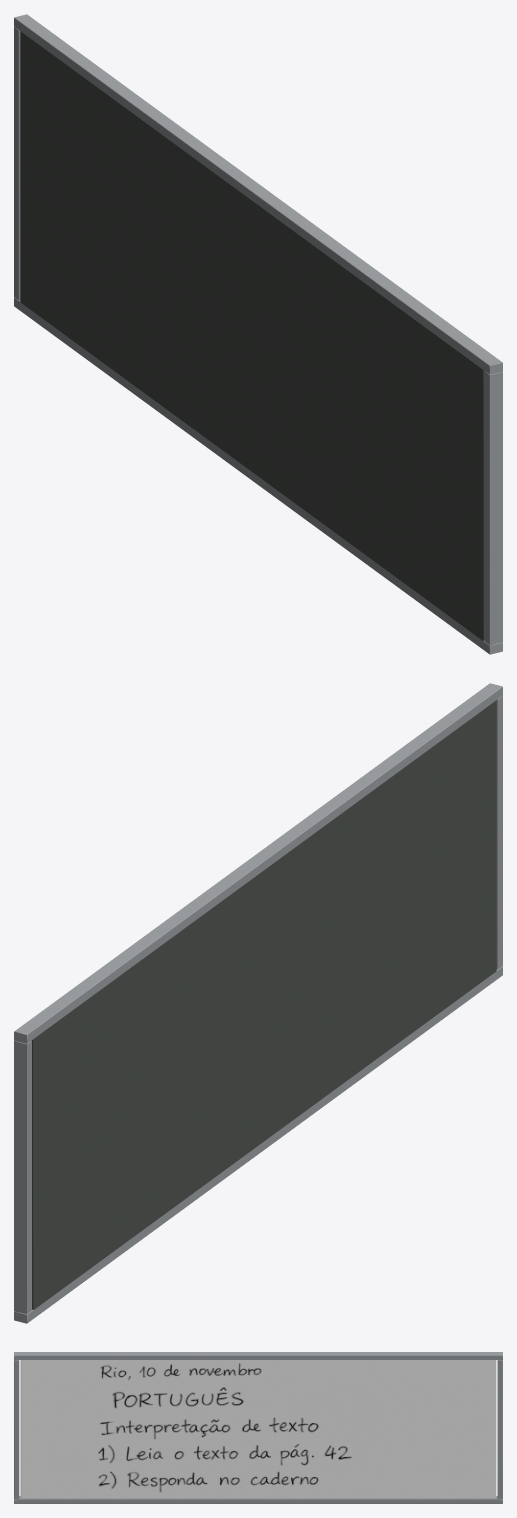
Rendered from quadro_branco_realista.glb.
3 renders of one model, top to bottom at view 1: azimuth 30°, elevation 25°; view 2: azimuth 150°, elevation 25°; view 3: azimuth 270°, elevation 25°, orthographic. The views are drawn at different scales.
Visible parts, largest first — view 1: Quadro_branco_PBR; view 2: Quadro_branco_PBR; view 3: Quadro_branco_PBR.
Part boxes in pixels (<box>): Quadro_branco_PBR: <box>14,14,502,654</box>; Quadro_branco_PBR: <box>14,683,502,1323</box>; Quadro_branco_PBR: <box>14,1352,502,1503</box>.
Bounding box in the file's own units: 0.06 × 1.24 × 3.7.
1 material, 1 textured.
